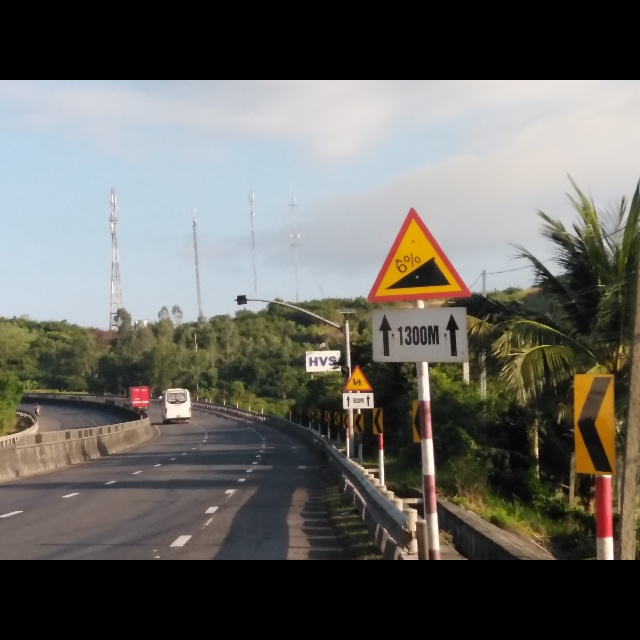Dốc lên nguy hiểm: (366, 205, 471, 303)
Ngoặt nguy hiểm liên tiếp bên phải: (341, 362, 374, 392)
